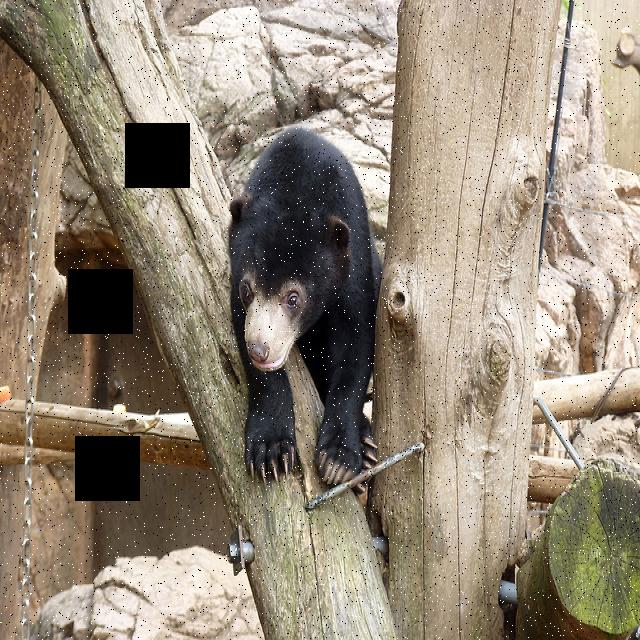Bear: (225, 121, 393, 496)
